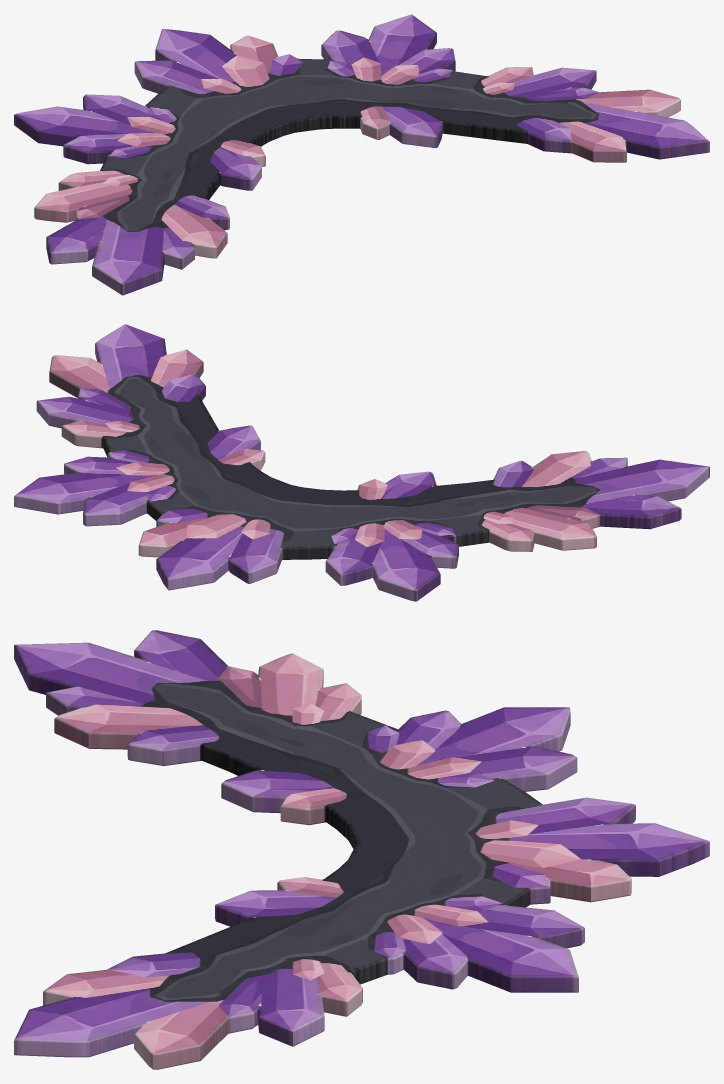
File: Boomerang_50.fbx
The picture shows the model from 3 angles, top to bottom: view 1: azimuth 30°, elevation 25°; view 2: azimuth 150°, elevation 25°; view 3: azimuth 270°, elevation 25°; orthographic projection. The views are drawn at different scales.
Visible parts, largest first — view 1: Boomerang_50; view 2: Boomerang_50; view 3: Boomerang_50.
Boxes of the visible parts, bbox=[...] form: Boomerang_50: bbox=[14, 14, 709, 295]; Boomerang_50: bbox=[14, 324, 709, 601]; Boomerang_50: bbox=[14, 630, 709, 1069].
Size of the model in its own units: 224 by 4.1 by 155.
Materials: 1 (1 with a texture image).
